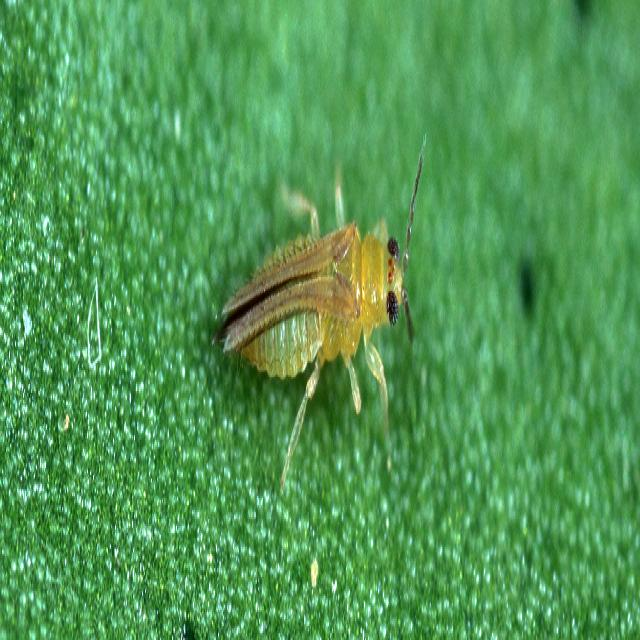Thrip-Adult-: (188, 90, 430, 472)
